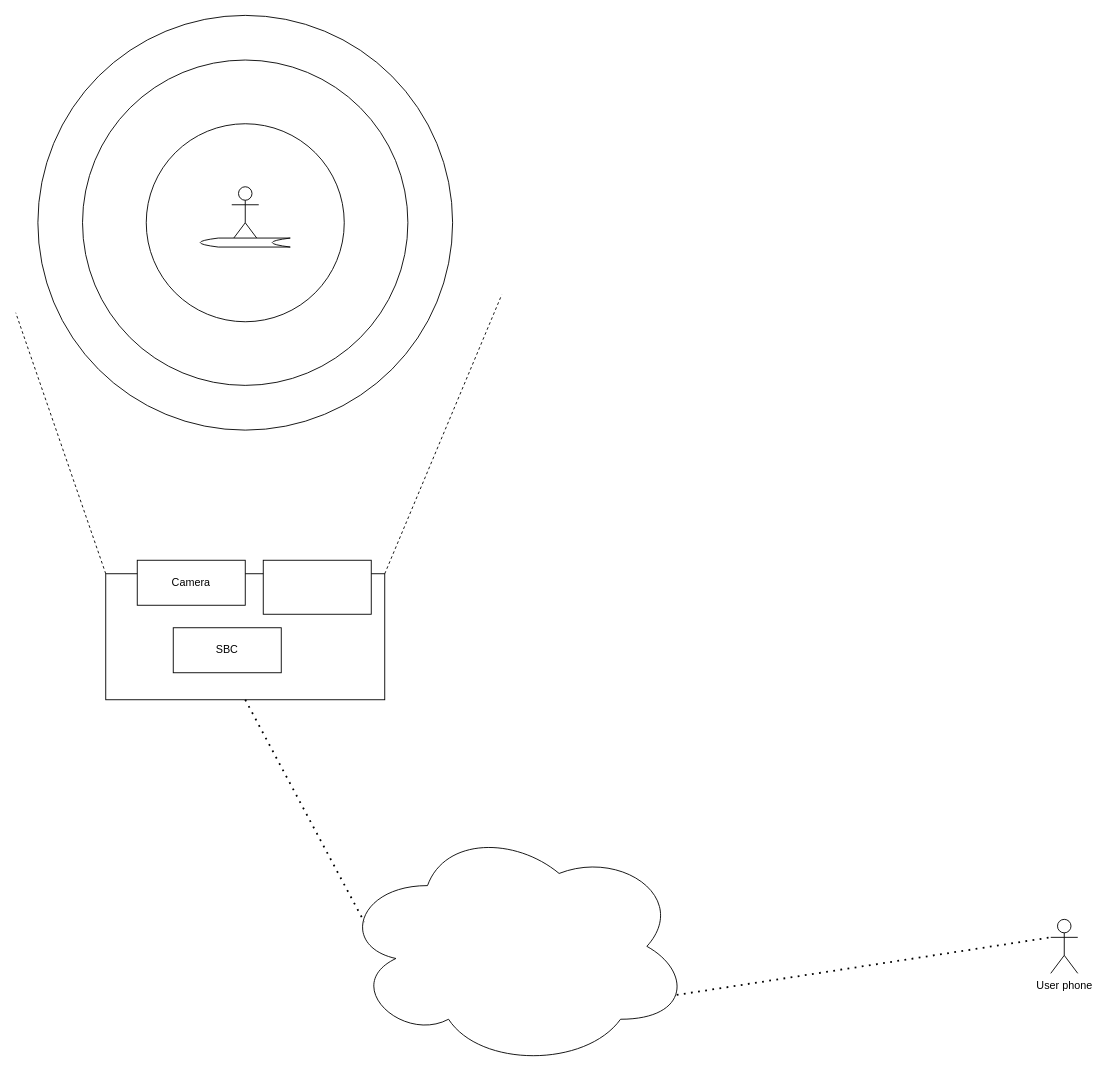
Image size: 1108x1085. Some labels were removed from this diagram. The box of each missing label's shape, as (x1, y1, x2, y2) in pixels:
BT antenna: (262, 559, 371, 614)
Wakeboarder with BT beacon: (231, 186, 259, 241)
